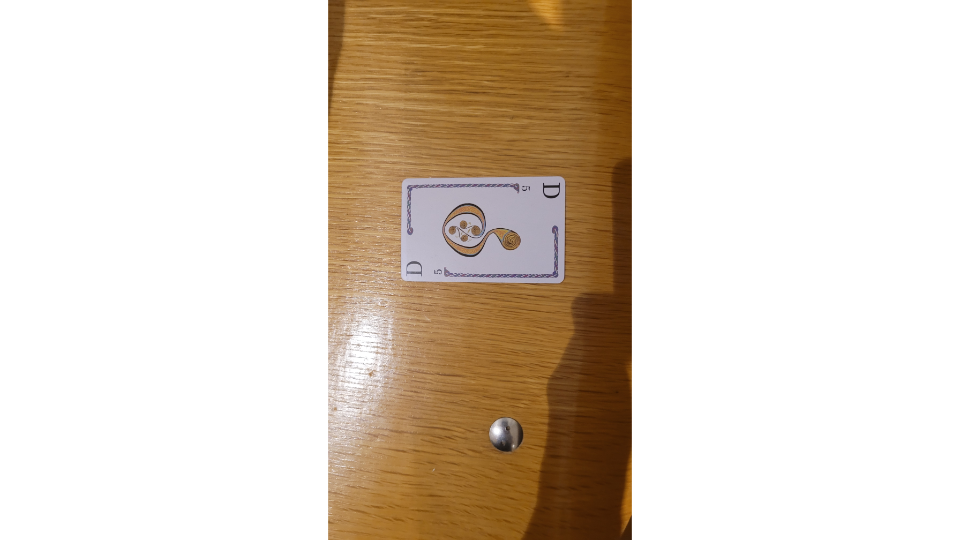D: (396, 173, 570, 286)
